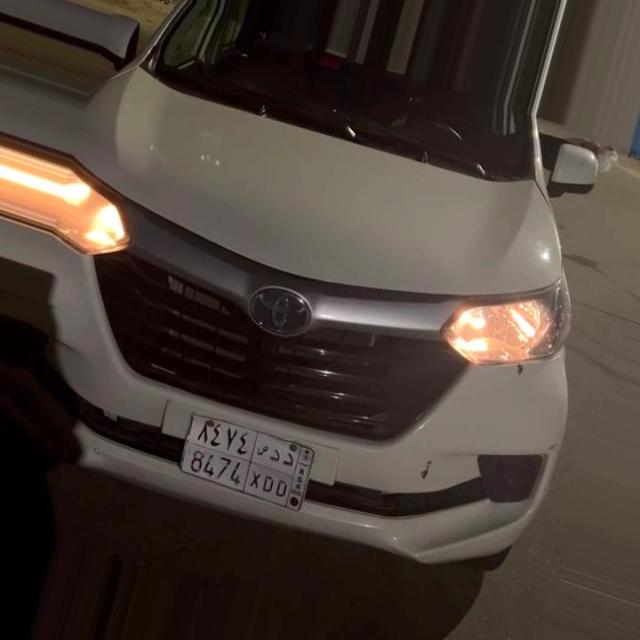Car-plate: (162, 391, 330, 524)
